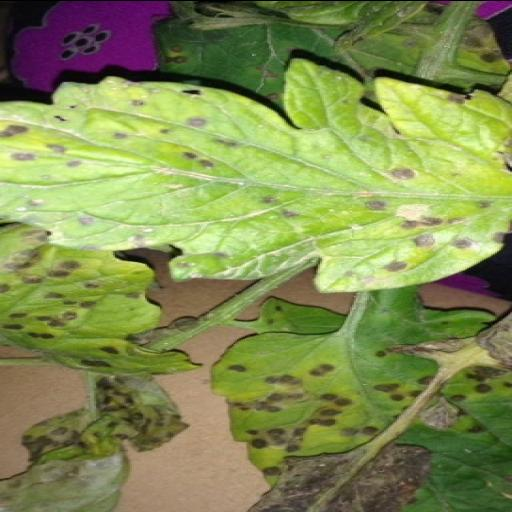Septoria: (4, 56, 510, 294), (205, 300, 512, 512), (0, 222, 202, 376), (0, 367, 194, 512)
